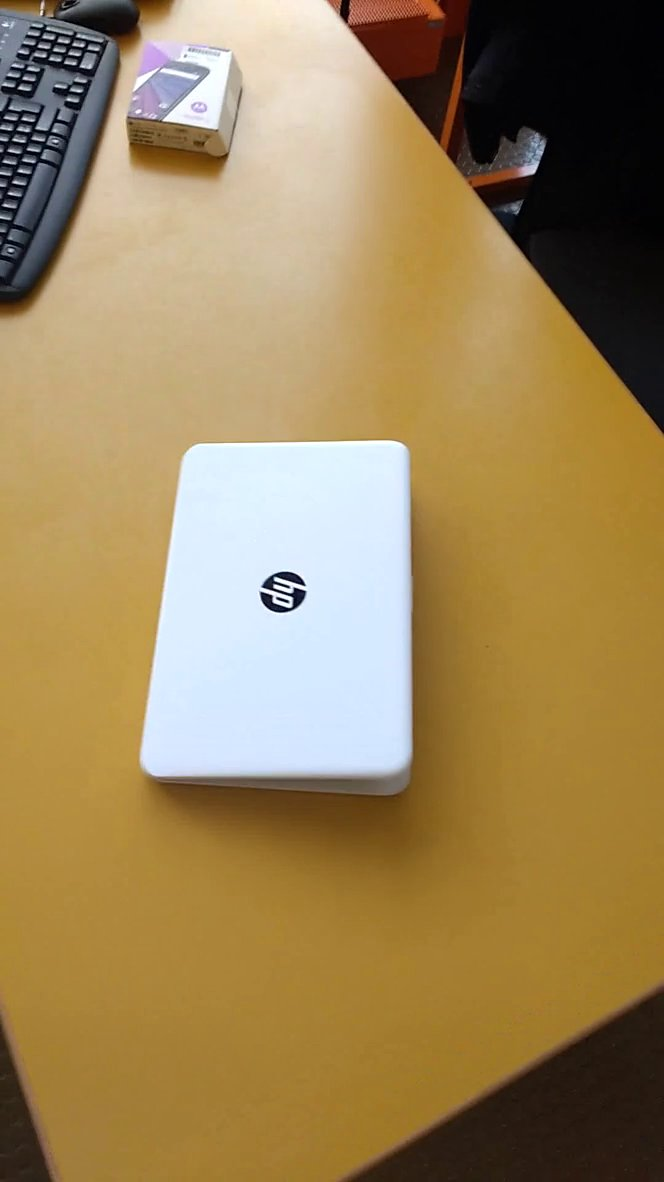laptop: (125, 424, 447, 823)
